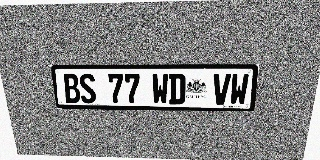7: (107, 74, 125, 104), (123, 74, 141, 104)
B: (62, 73, 81, 103)
D: (169, 74, 186, 104)
S: (78, 73, 97, 103)
V: (212, 74, 231, 105)
W: (229, 74, 249, 105), (152, 74, 168, 104)
